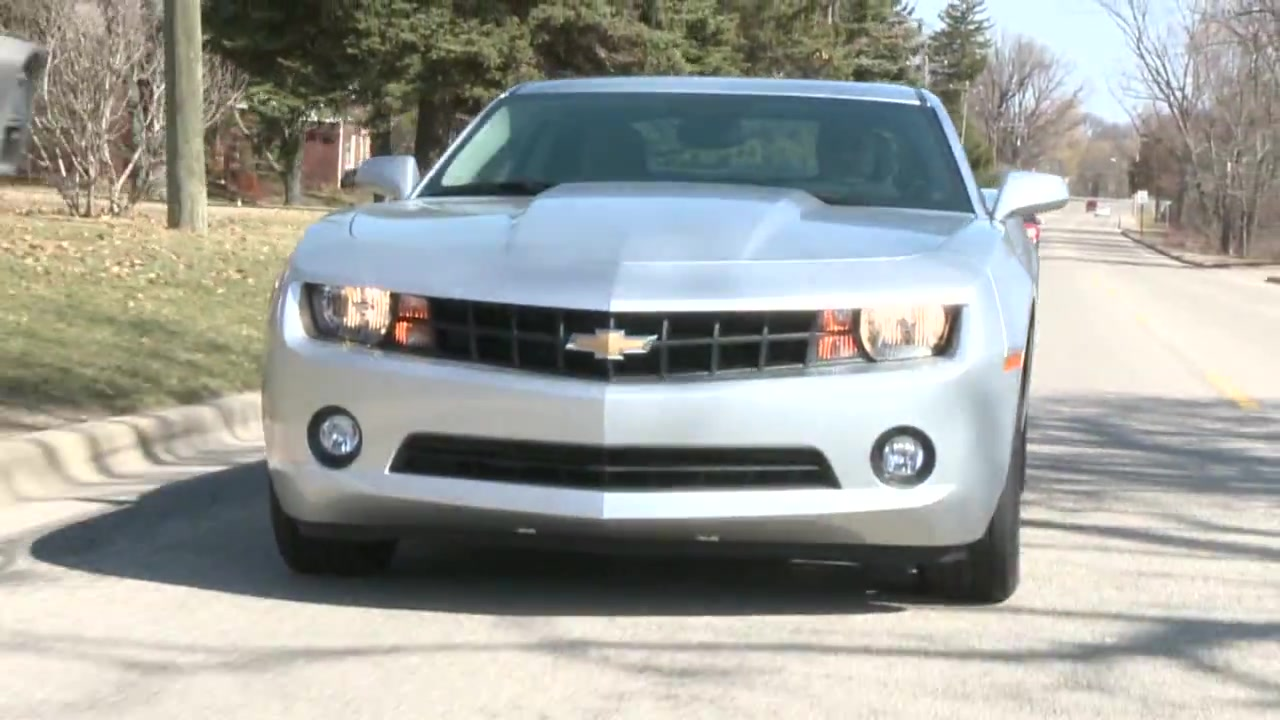car: (265, 73, 1073, 607)
